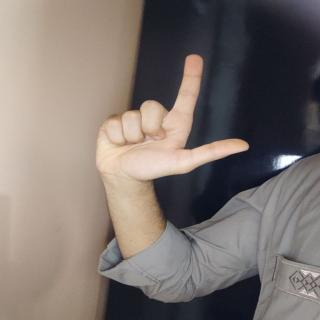HA: (90, 46, 252, 196)
